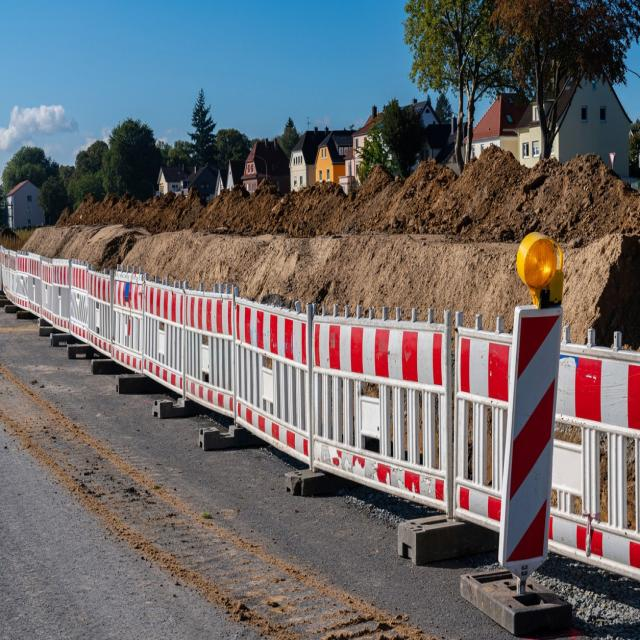cone: (0, 243, 639, 583)
